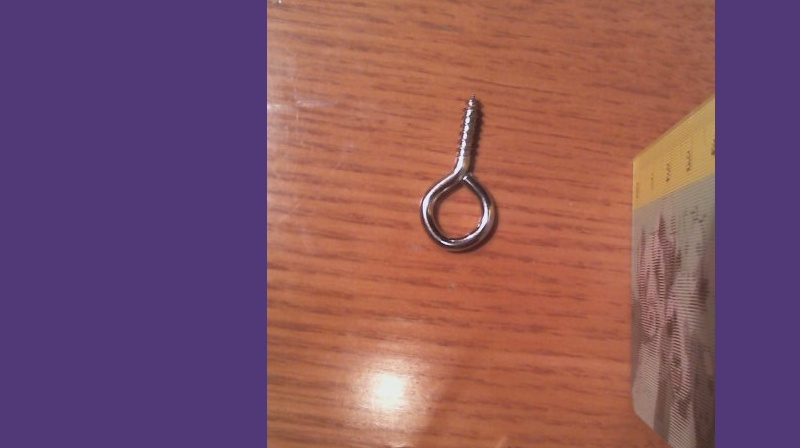O001: (416, 91, 500, 255)
S001: (347, 442, 526, 447)
